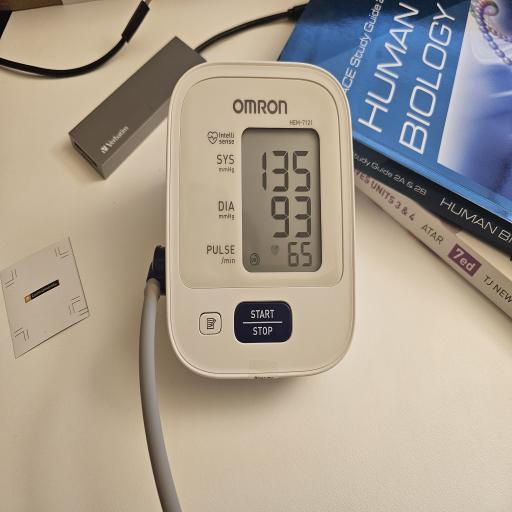blood pressure monitor: (165, 61, 356, 382)
